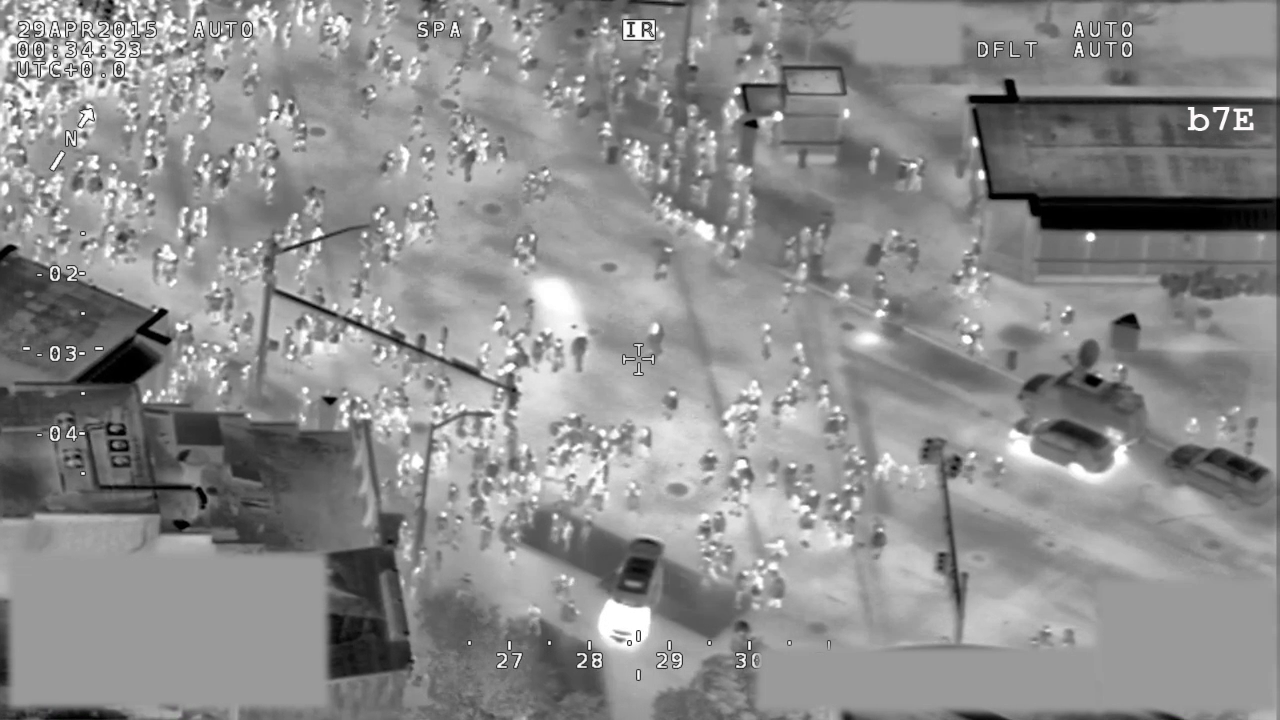vehicle: (1013, 331, 1154, 449), (595, 530, 673, 655), (1008, 406, 1123, 487), (1160, 438, 1280, 514)
